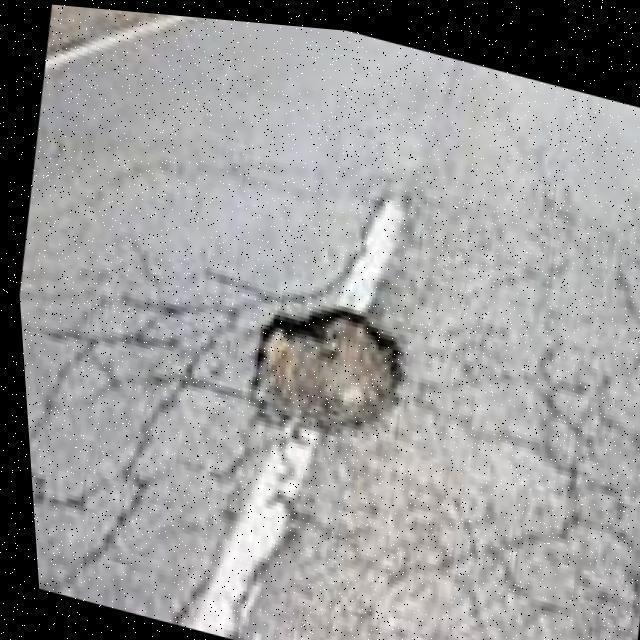Pothole: (255, 310, 401, 432)
